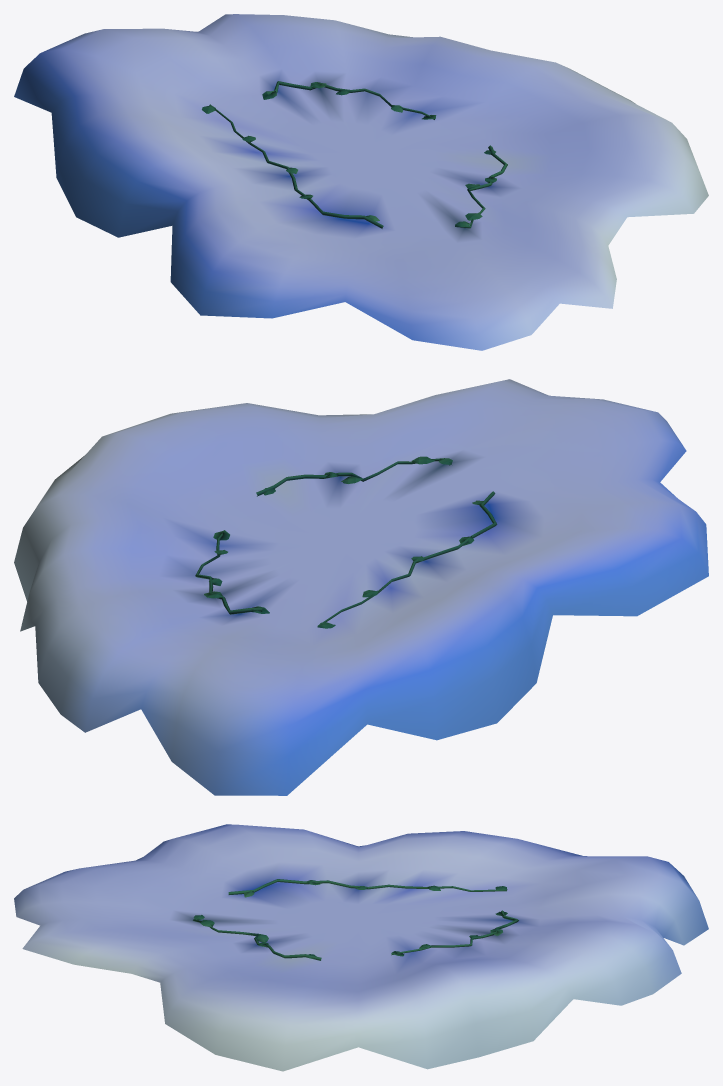
File: island.glb
3 renders of one model, top to bottom at view 1: azimuth 30°, elevation 25°; view 2: azimuth 150°, elevation 25°; view 3: azimuth 270°, elevation 25°, orthographic. The views are drawn at different scales.
Visible parts, largest first — view 1: island; view 2: island; view 3: island.
Boxes of the visible parts, x1,y1,x2,y2 form: island: (14, 14, 708, 350); island: (14, 379, 708, 795); island: (14, 824, 708, 1071).
Size of the model in its own units: 19.42 by 2.79 by 26.27.
